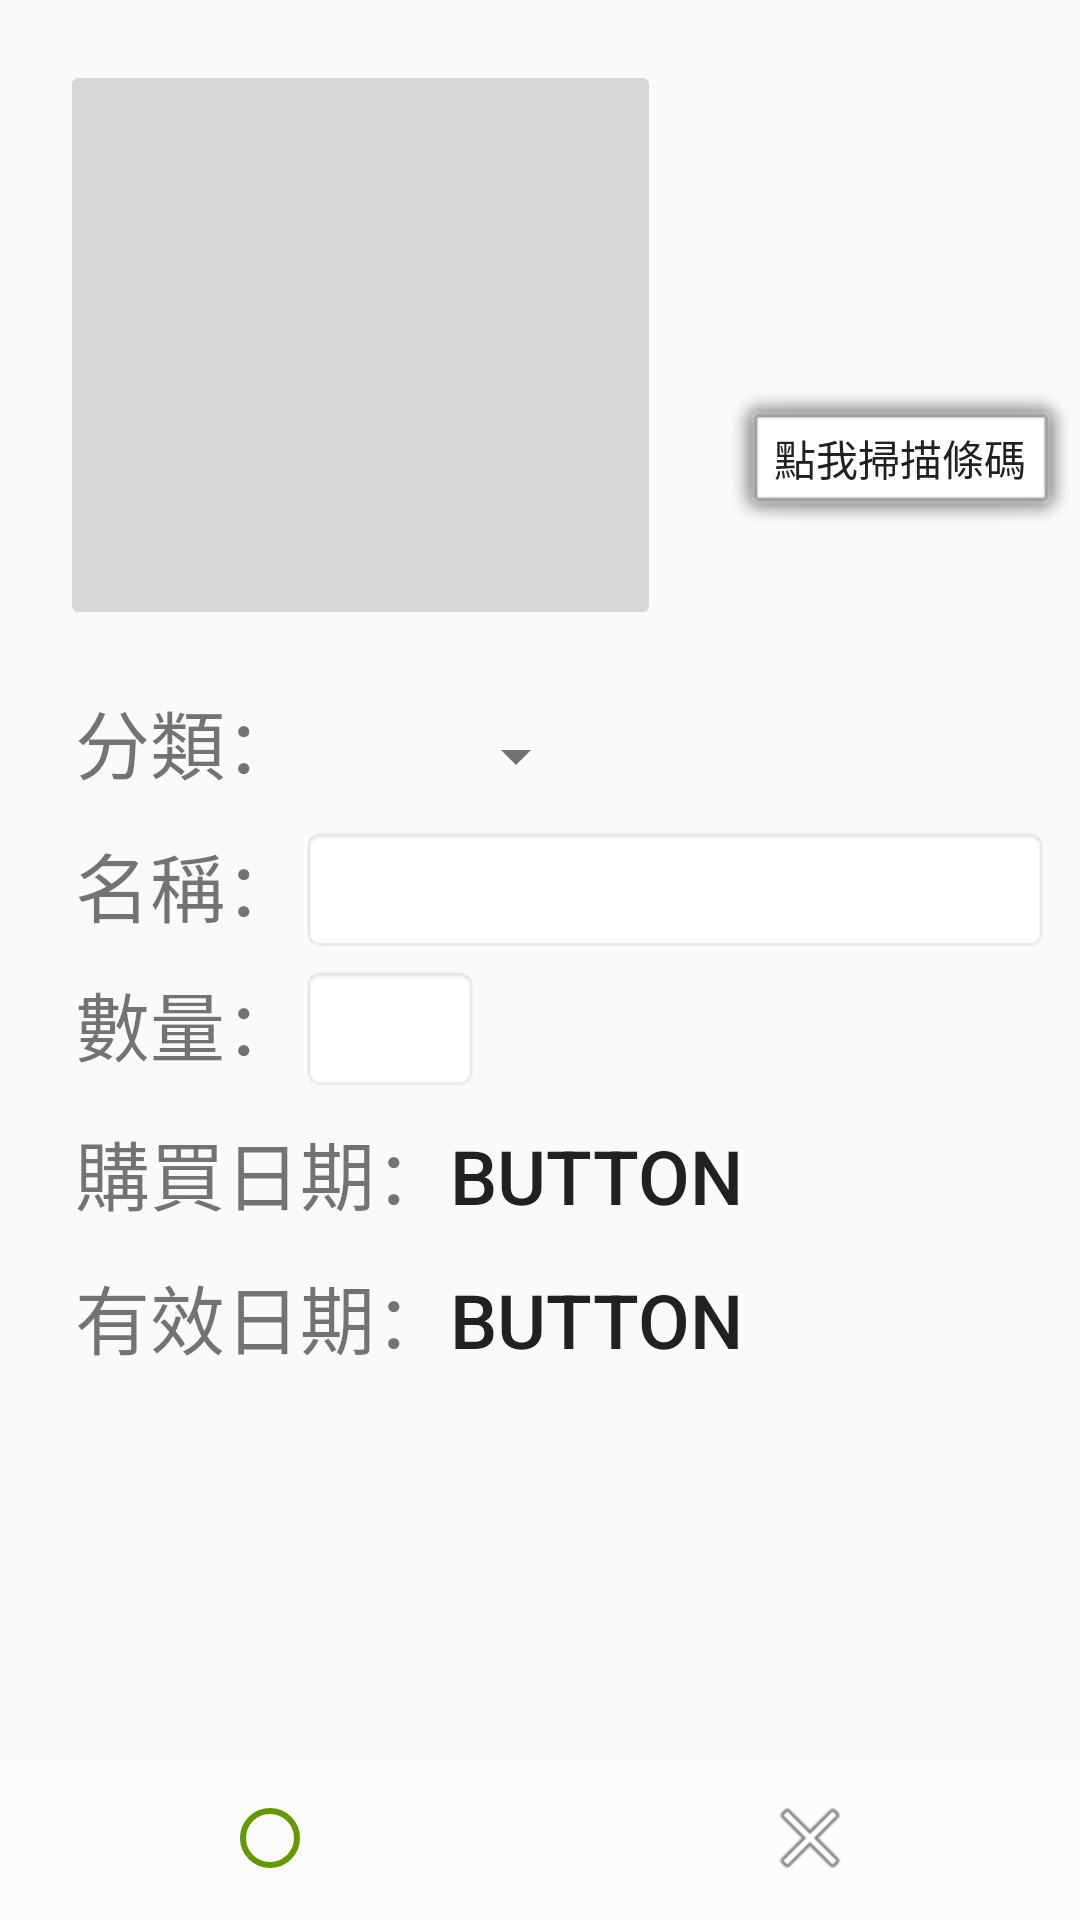

Where to tap for icons on this 1080 x 1920 app screen, as [x,y]:
close clear cancel: [810,1838]
